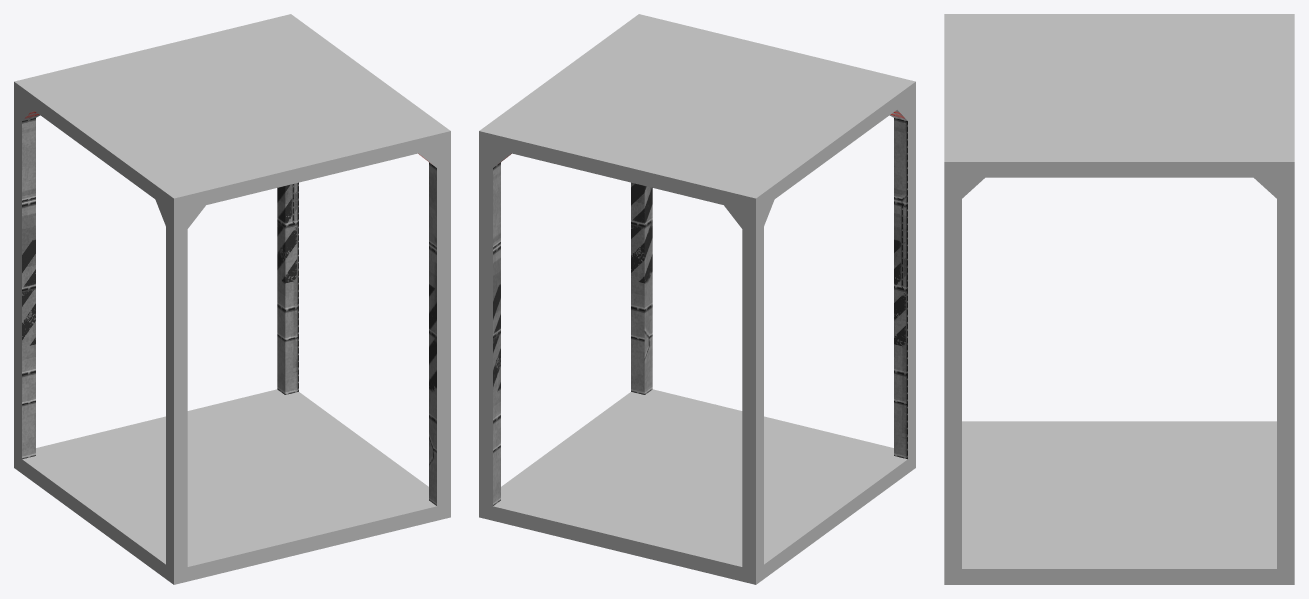
3 views of the same model, side by side, from view 1: azimuth 30°, elevation 25°; view 2: azimuth 150°, elevation 25°; view 3: azimuth 270°, elevation 25° (orthographic). The views are drawn at different scales.
Visible parts, largest first — view 1: Body.001; view 2: Body.001; view 3: Body.001.
Part boxes in pixels (x1,y1,x2,y2): Body.001: [14, 14, 450, 584]; Body.001: [479, 14, 915, 584]; Body.001: [944, 14, 1294, 584].
Bounding box in the file's own units: 1.5 × 2 × 1.5.
Materials: 3 (2 with a texture image).
